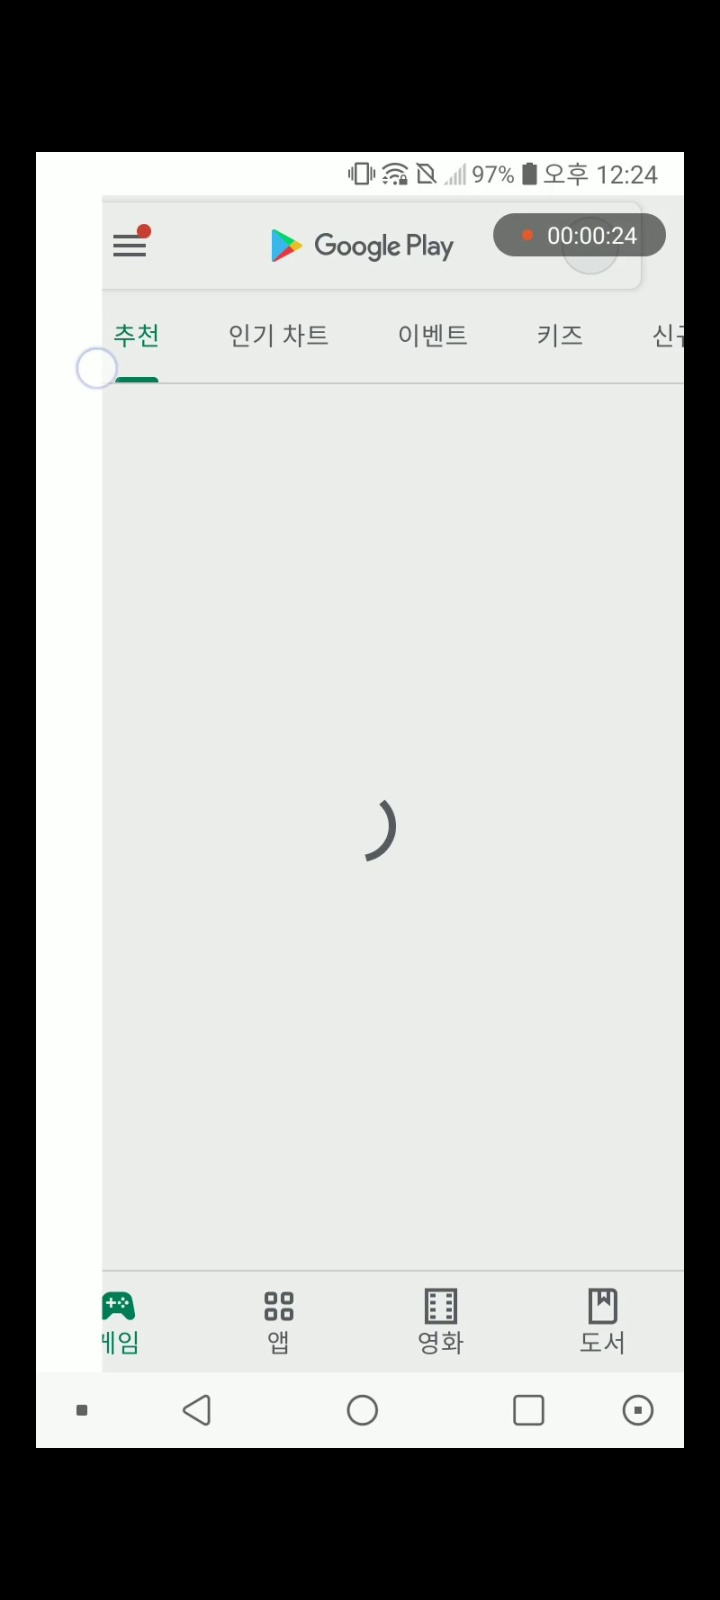Cursor: (76, 346, 121, 391)
